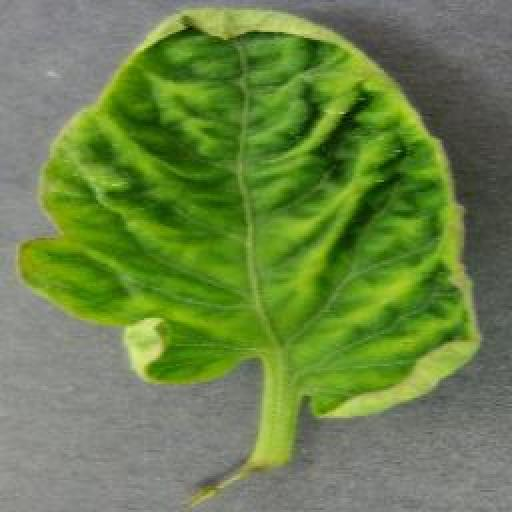Yellow Leaf Curl Virus: (20, 6, 483, 422)
